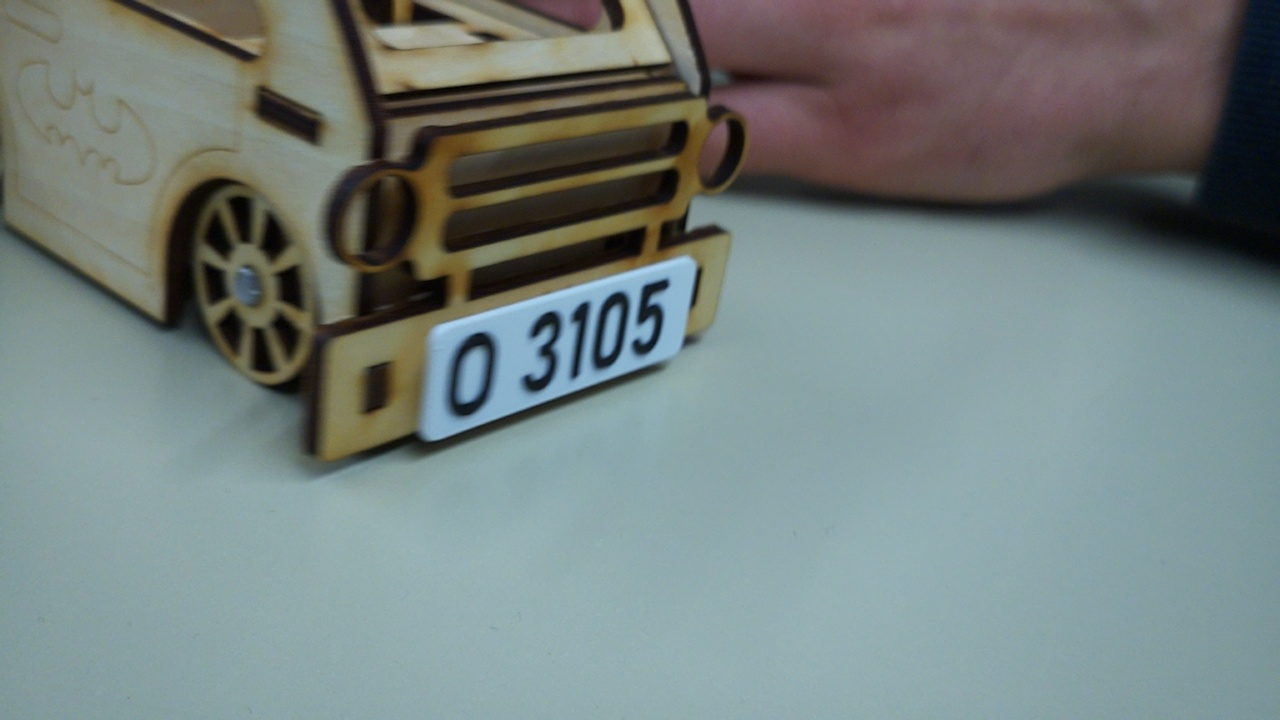license_plate: (416, 254, 700, 448)
